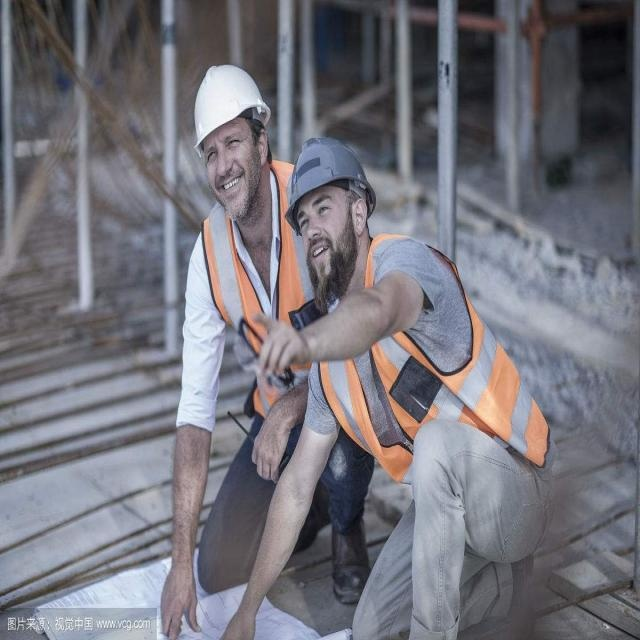Con_Casco: (197, 67, 267, 207)
Con_Chaleco: (314, 257, 559, 468)
